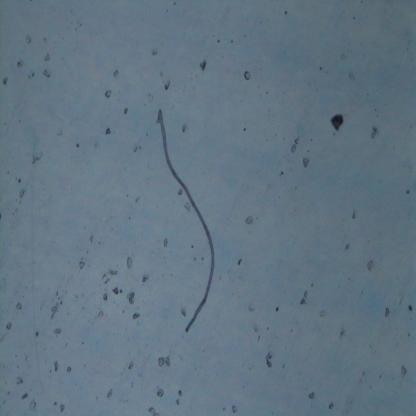Background material: (49, 287, 65, 320), (330, 111, 348, 135), (101, 265, 117, 288), (262, 349, 277, 370), (289, 135, 302, 158), (125, 290, 138, 309), (370, 125, 382, 144), (156, 354, 172, 368), (29, 150, 43, 166), (76, 256, 88, 274), (366, 258, 378, 276), (302, 155, 315, 171), (298, 289, 309, 307), (242, 68, 255, 83), (154, 384, 166, 400), (198, 57, 210, 73), (111, 67, 123, 83), (14, 374, 28, 387), (141, 269, 151, 286), (130, 310, 144, 322), (127, 358, 138, 373), (162, 77, 173, 92), (317, 307, 329, 320), (52, 361, 63, 375), (400, 362, 409, 378), (245, 214, 256, 227), (306, 390, 317, 403), (0, 73, 10, 87), (253, 324, 264, 336), (112, 286, 123, 298), (161, 236, 171, 249), (15, 300, 25, 313), (126, 255, 134, 271), (327, 398, 336, 412), (106, 387, 115, 401), (50, 327, 61, 338), (16, 58, 26, 70), (147, 406, 159, 416), (42, 67, 52, 79), (230, 402, 238, 416), (29, 399, 39, 410), (42, 51, 53, 61), (19, 392, 31, 401), (18, 188, 27, 200), (25, 34, 34, 46), (350, 206, 357, 221), (104, 90, 114, 100), (5, 321, 14, 332), (94, 307, 102, 319), (384, 309, 394, 318), (59, 403, 67, 414), (236, 258, 244, 269), (32, 328, 40, 338), (102, 294, 110, 304), (105, 126, 113, 136), (122, 108, 132, 116), (53, 399, 60, 410), (407, 302, 414, 312), (174, 398, 182, 406), (65, 364, 71, 374), (177, 388, 183, 398), (242, 127, 247, 133)
Microfibre: (157, 110, 216, 334)
